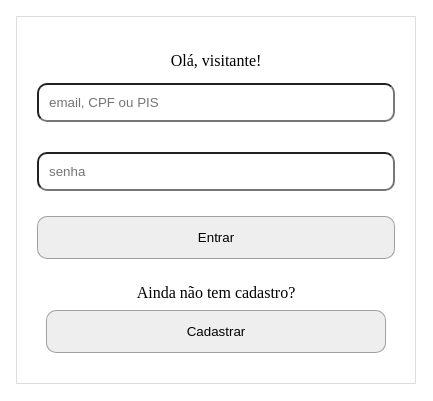
successful login render
Type "username" into the field with placeholder "email, CPF ou PIS" at (216, 102), box [37,83,395,122]
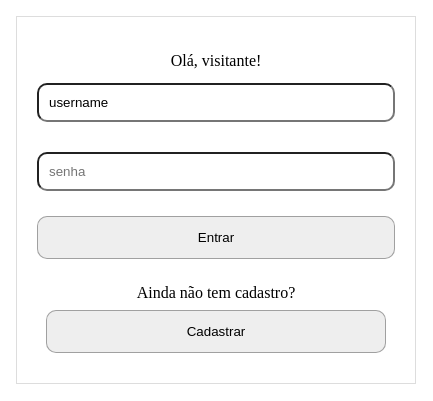
Type "password" into the password field with placeholder "senha" at (216, 172), box [37,152,395,191]
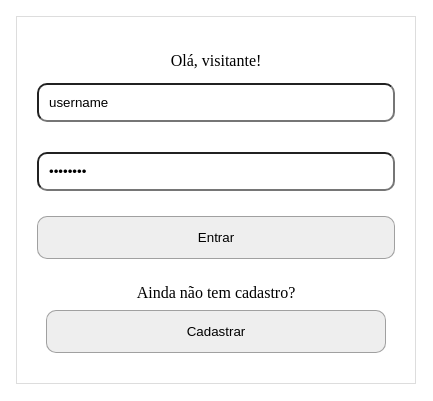
Click the button "Entrar" at (216, 238), box [37,216,395,259]
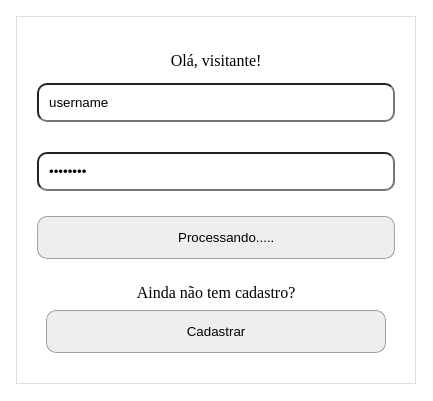
Result: the button "Processando....." is shown at [37,216,395,259]
